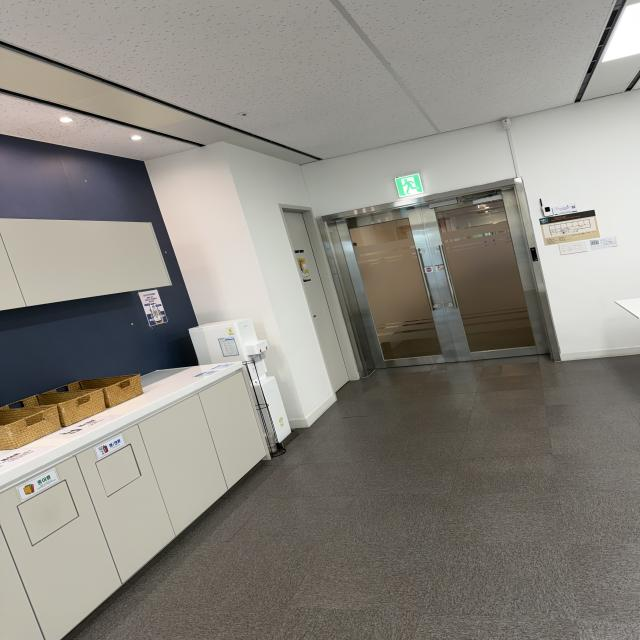rear_door: (331, 188, 550, 370)
